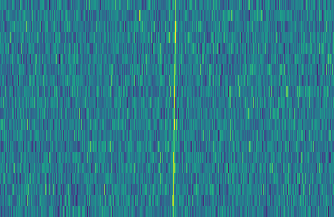signal: (168, 0, 179, 217)
